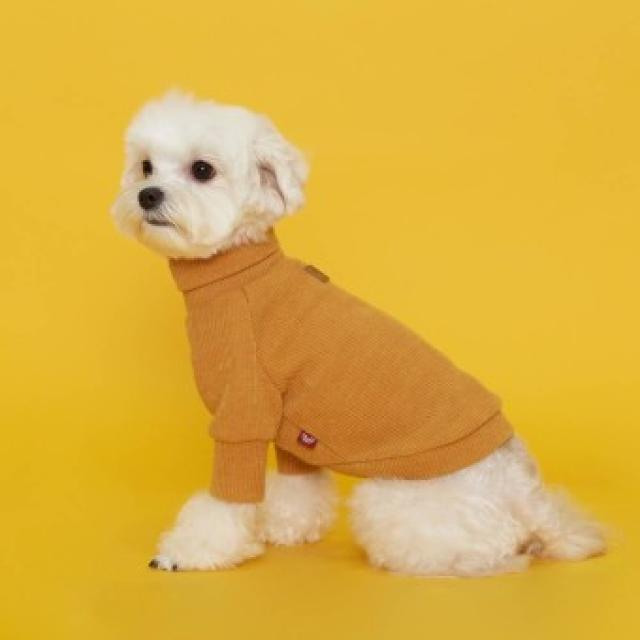cloth: (170, 231, 512, 502)
